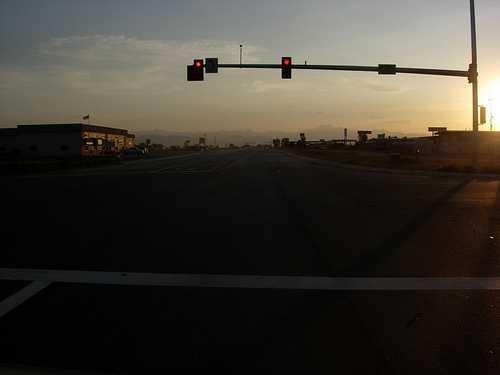red: (282, 54, 295, 80), (194, 57, 205, 82)
